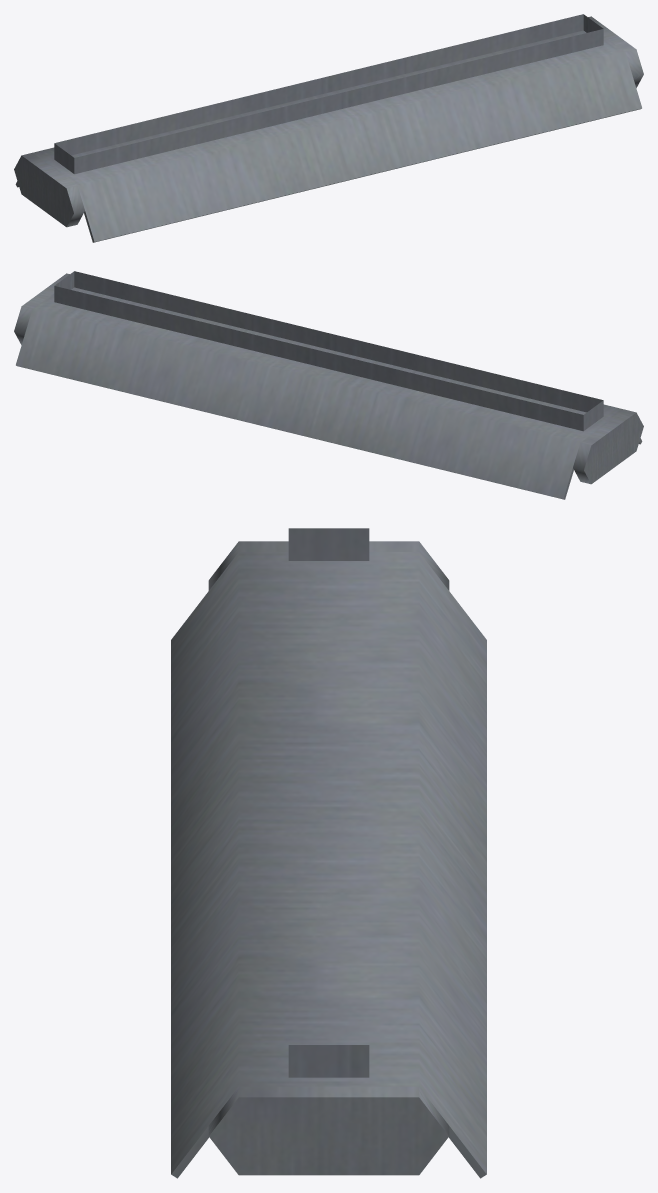
The model's file is Furniture_Lamp.fbx.
3 renders of one model, top to bottom at view 1: azimuth 30°, elevation 25°; view 2: azimuth 150°, elevation 25°; view 3: azimuth 270°, elevation 25°, orthographic. The views are drawn at different scales.
Parts seen in each view (by area): view 1: Empty_Mesh; view 2: Empty_Mesh; view 3: Empty_Mesh.
Part boxes in pixels (box(x1,y1,x2,y2)): Empty_Mesh: box(14, 14, 643, 242); Empty_Mesh: box(14, 271, 643, 499); Empty_Mesh: box(171, 528, 486, 1178).
Bounding box in the file's own units: 199741 × 20875 × 47908.
